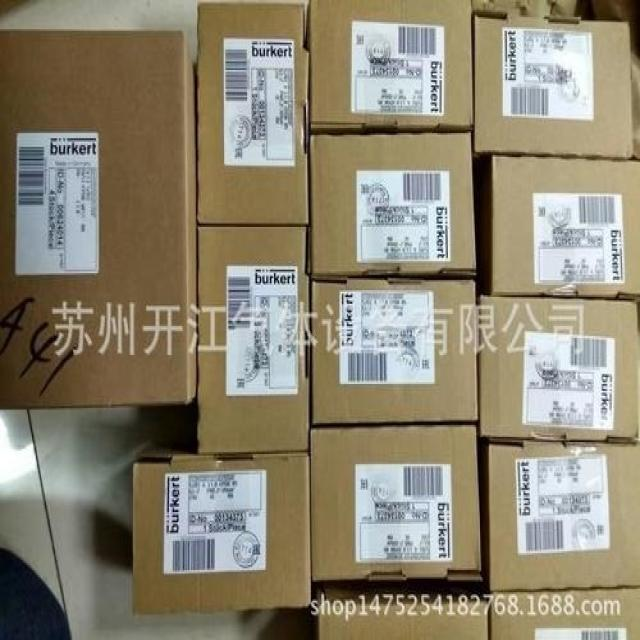box: (0, 29, 196, 410), (132, 444, 311, 618), (311, 423, 484, 582), (197, 227, 310, 456), (197, 3, 310, 225), (308, 133, 477, 278), (312, 280, 477, 427), (479, 295, 640, 442), (483, 444, 640, 592), (475, 9, 634, 155), (308, 0, 474, 130), (493, 157, 640, 300), (316, 585, 489, 640), (489, 585, 640, 640)
